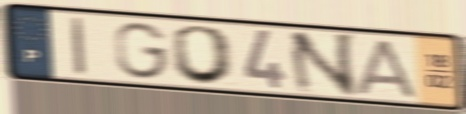4: (240, 26, 288, 92)
A: (353, 37, 420, 101)
G: (112, 20, 172, 82)
I: (69, 14, 89, 79)
N: (286, 31, 360, 99)
O: (170, 24, 238, 87)
